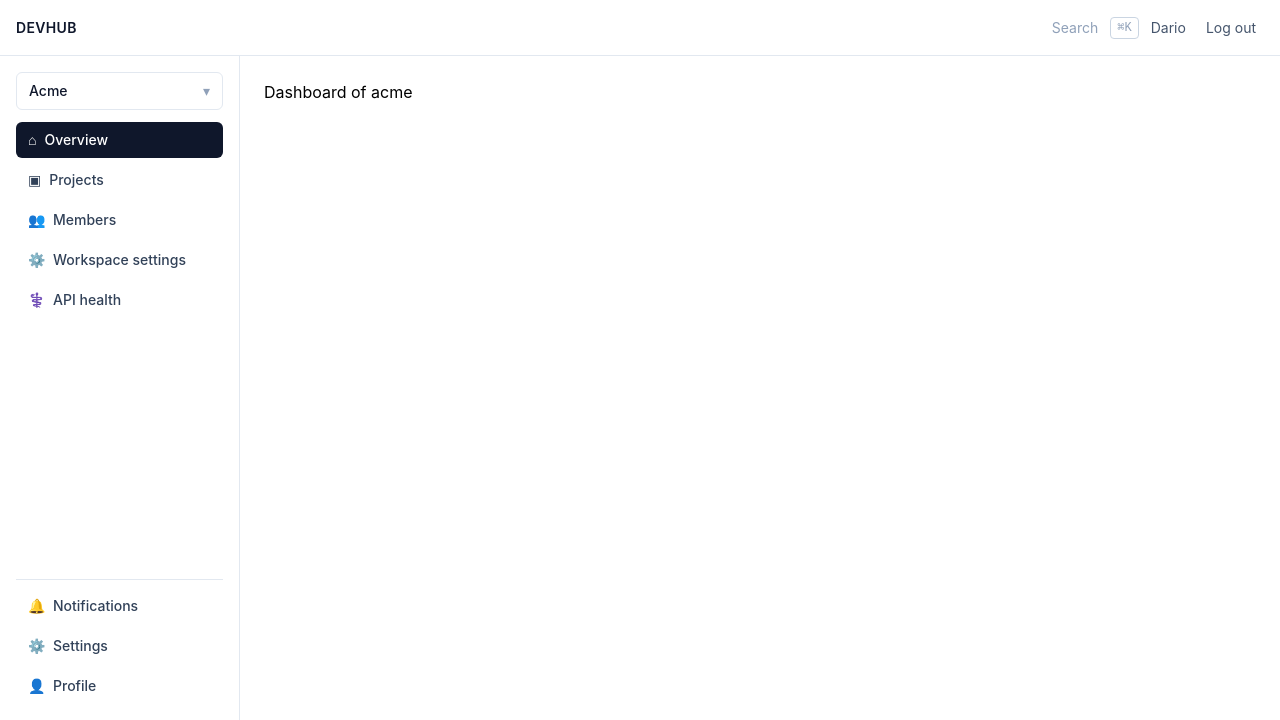
Scenario: switcher › switches workspace client-side and remembers the choice
The width and height of the screenshot is (1280, 720).
Expected: the heading "Dashboard of acme" is shown, [264,82,412,102]
Click the button with aria-label "Workspace: Acme". click: x=120, y=91
box: [16,72,223,110]
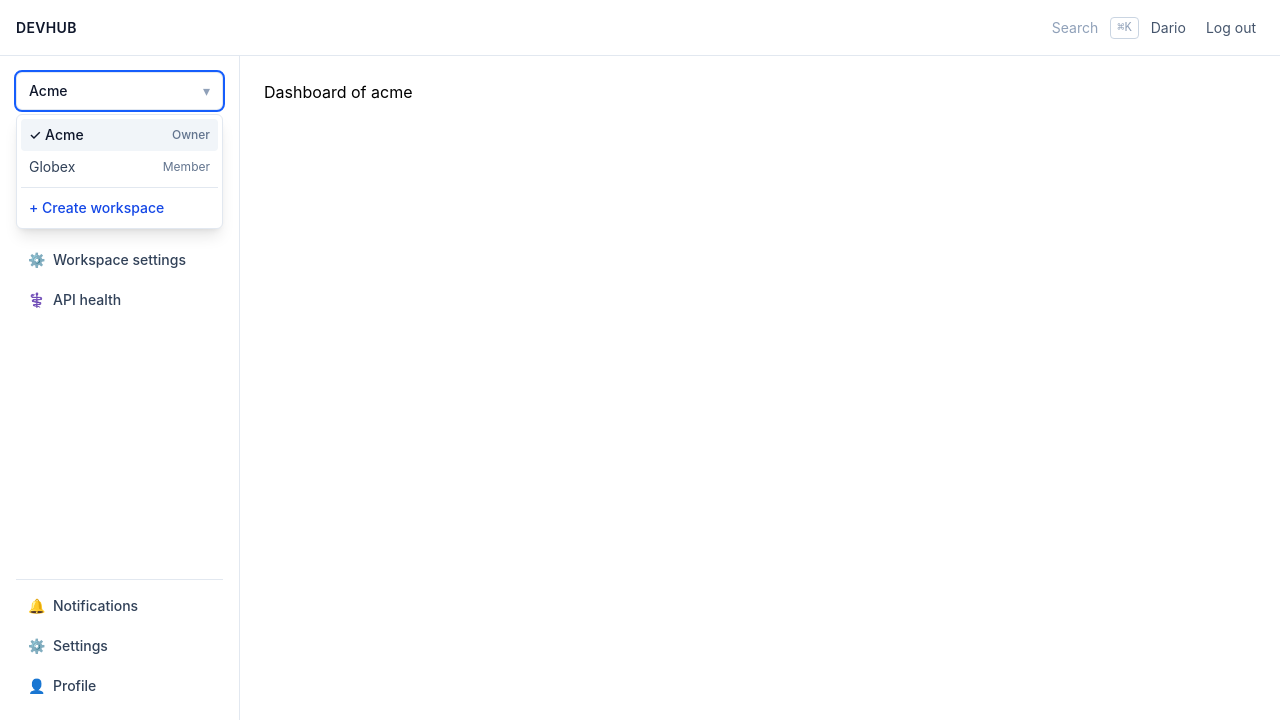
Click the link "Globex Member". click: x=52, y=166
box: [29,158,210,175]
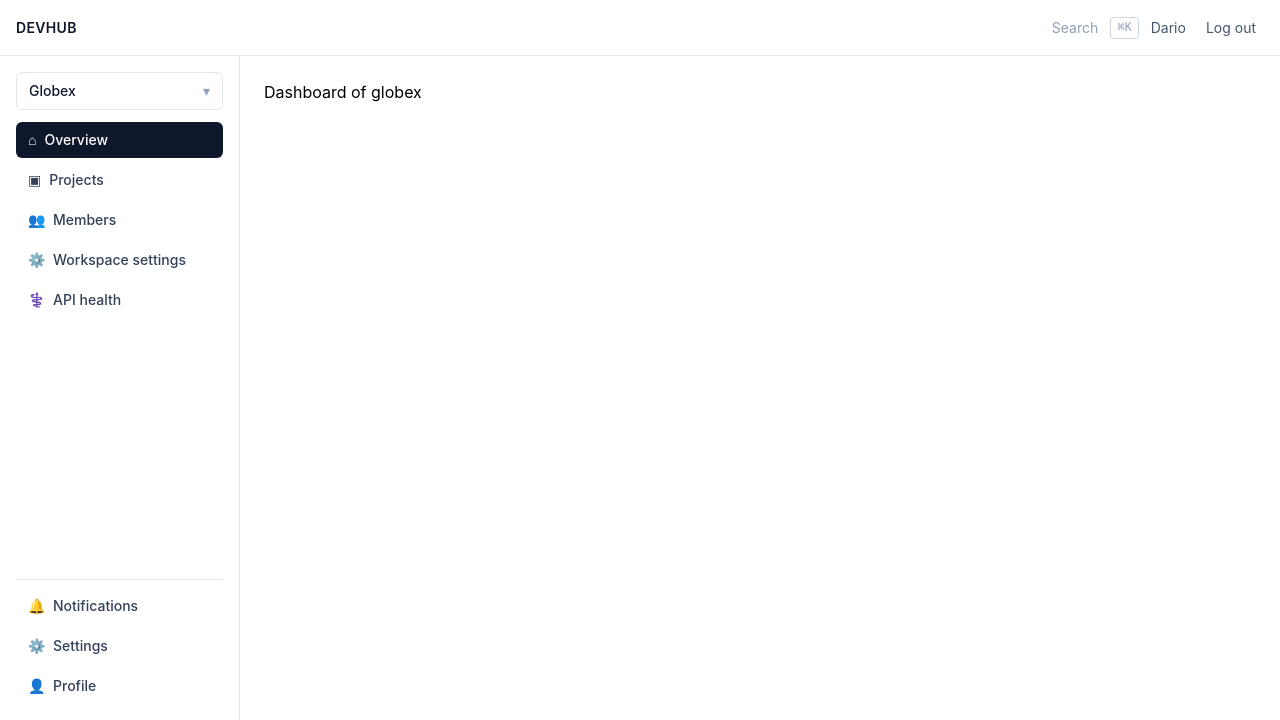
Expected: the button named "Workspace: Acme" is shown, [16,72,223,110]
Expected: the heading "Dashboard of globex" is shown, [264,82,422,102]
